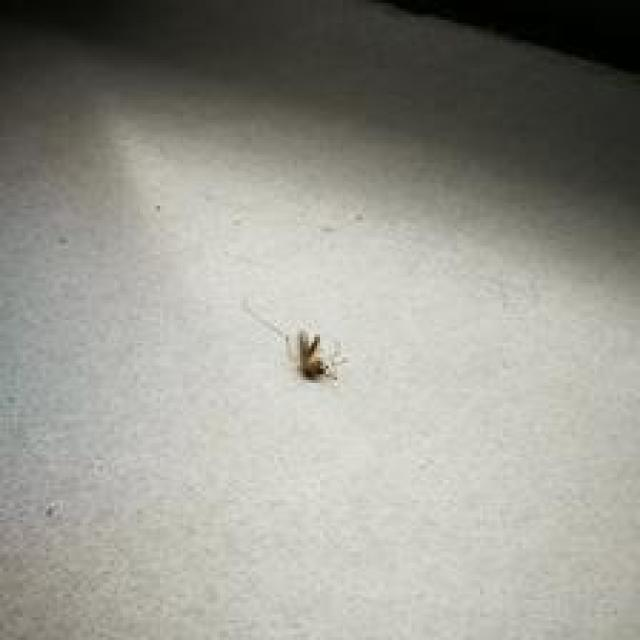Culex: (242, 297, 347, 386)
